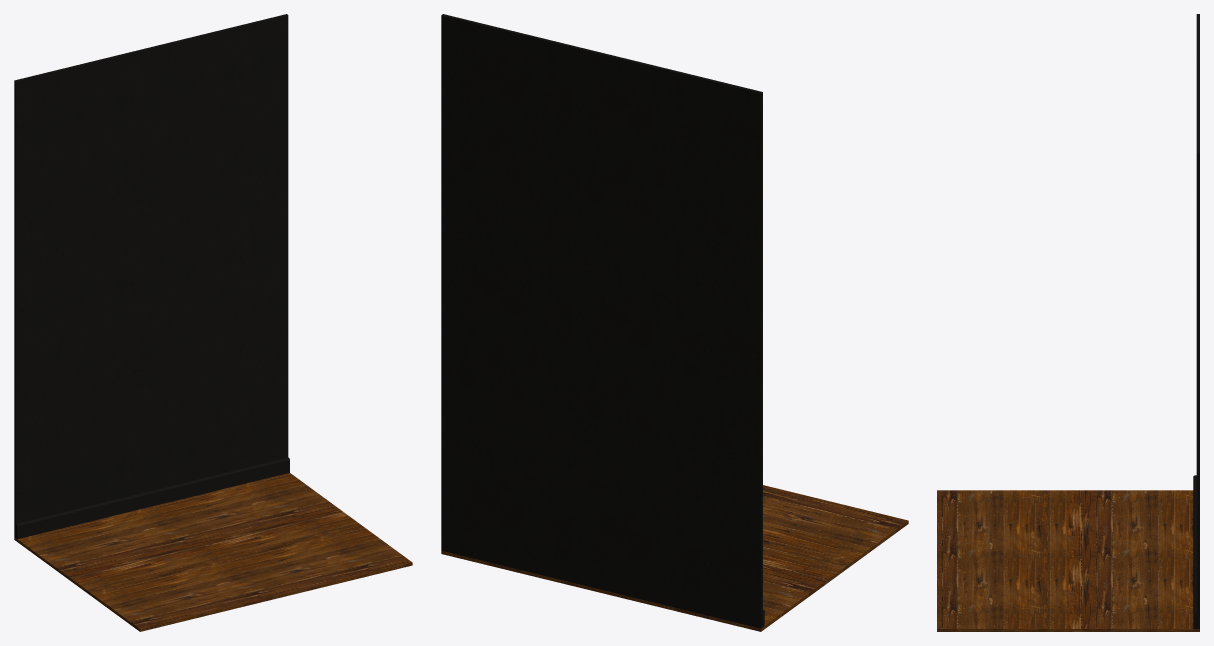
The picture shows the model from 3 angles, left to right: view 1: azimuth 30°, elevation 25°; view 2: azimuth 150°, elevation 25°; view 3: azimuth 270°, elevation 25°; orthographic projection. The views are drawn at different scales.
Visible parts, largest first — view 1: Cube.002, Cube.001, Cube; view 2: Cube.002, Cube.001; view 3: Cube.001, Cube.002, Cube.
Boxes of the visible parts, bbox=[...] form: Cube.002: bbox=[14, 14, 288, 537]; Cube.001: bbox=[14, 473, 412, 631]; Cube: bbox=[15, 457, 289, 539]; Cube.002: bbox=[441, 14, 762, 628]; Cube.001: bbox=[441, 485, 908, 631]; Cube.001: bbox=[937, 490, 1199, 631]; Cube.002: bbox=[1196, 14, 1199, 628]; Cube: bbox=[1193, 475, 1196, 628].
Size of the model in its own units: 5 by 8.05 by 4.
3 materials, 3 textured.
